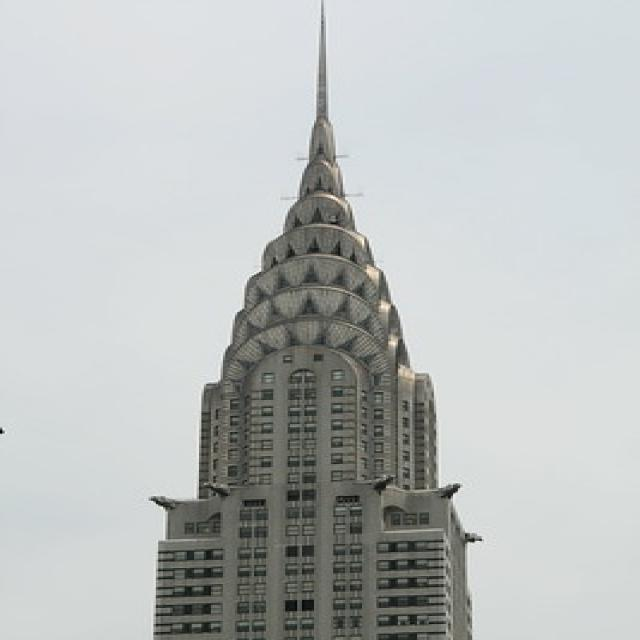building: (146, 171, 484, 640)
